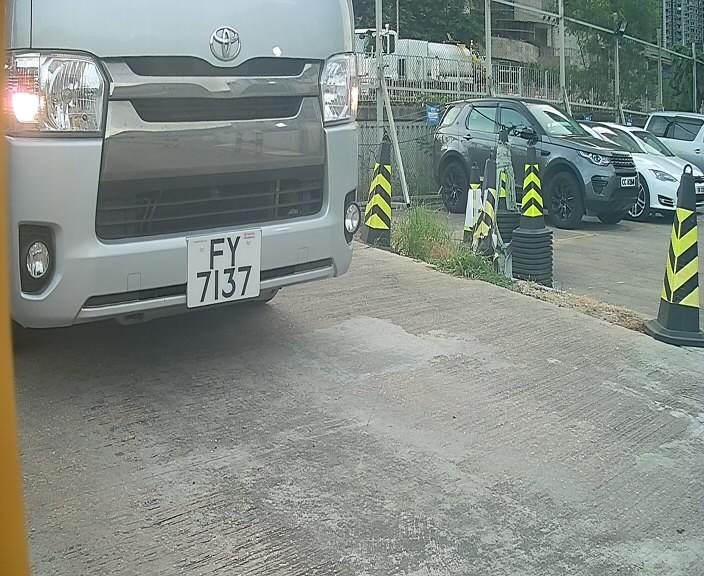License Plate: (173, 227, 274, 314)
